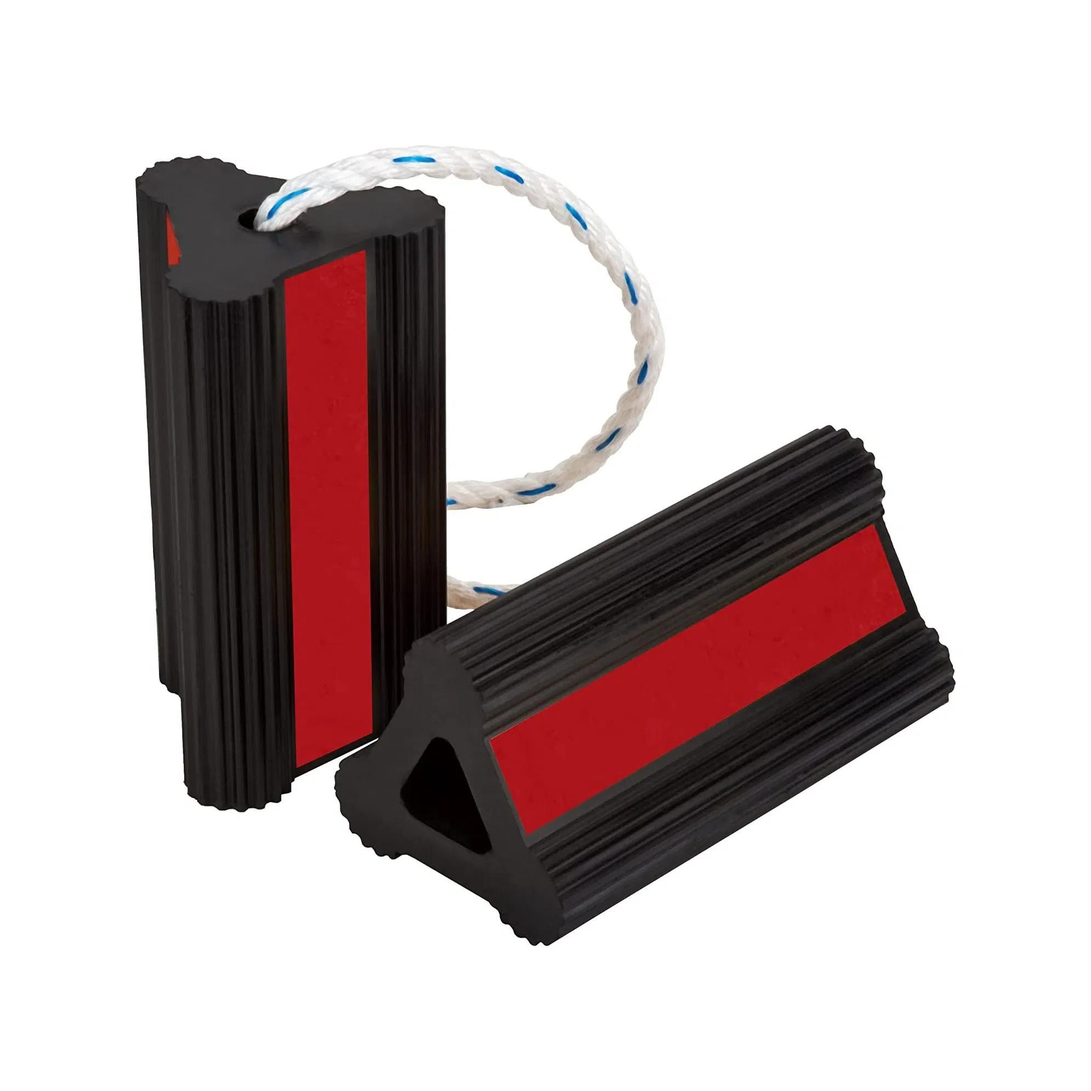boots: (336, 415, 958, 951), (119, 147, 451, 813)
